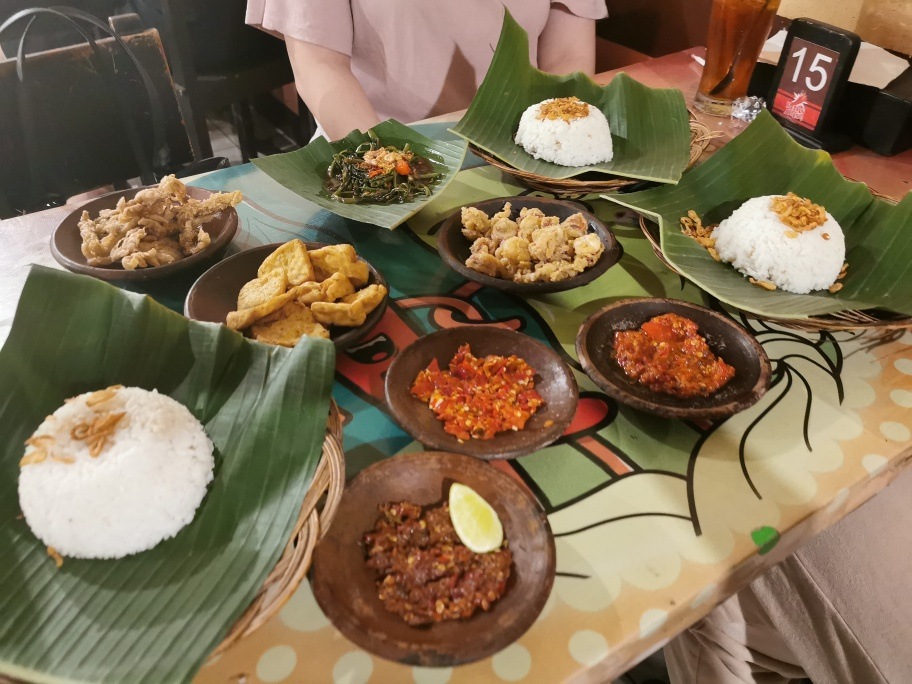nasi putih: (21, 383, 215, 558), (716, 189, 849, 300), (520, 92, 615, 169)
